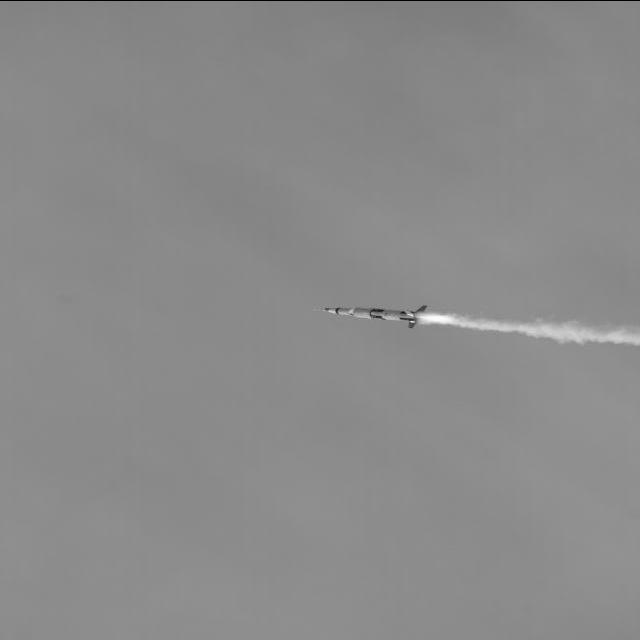missile: (320, 296, 433, 330)
